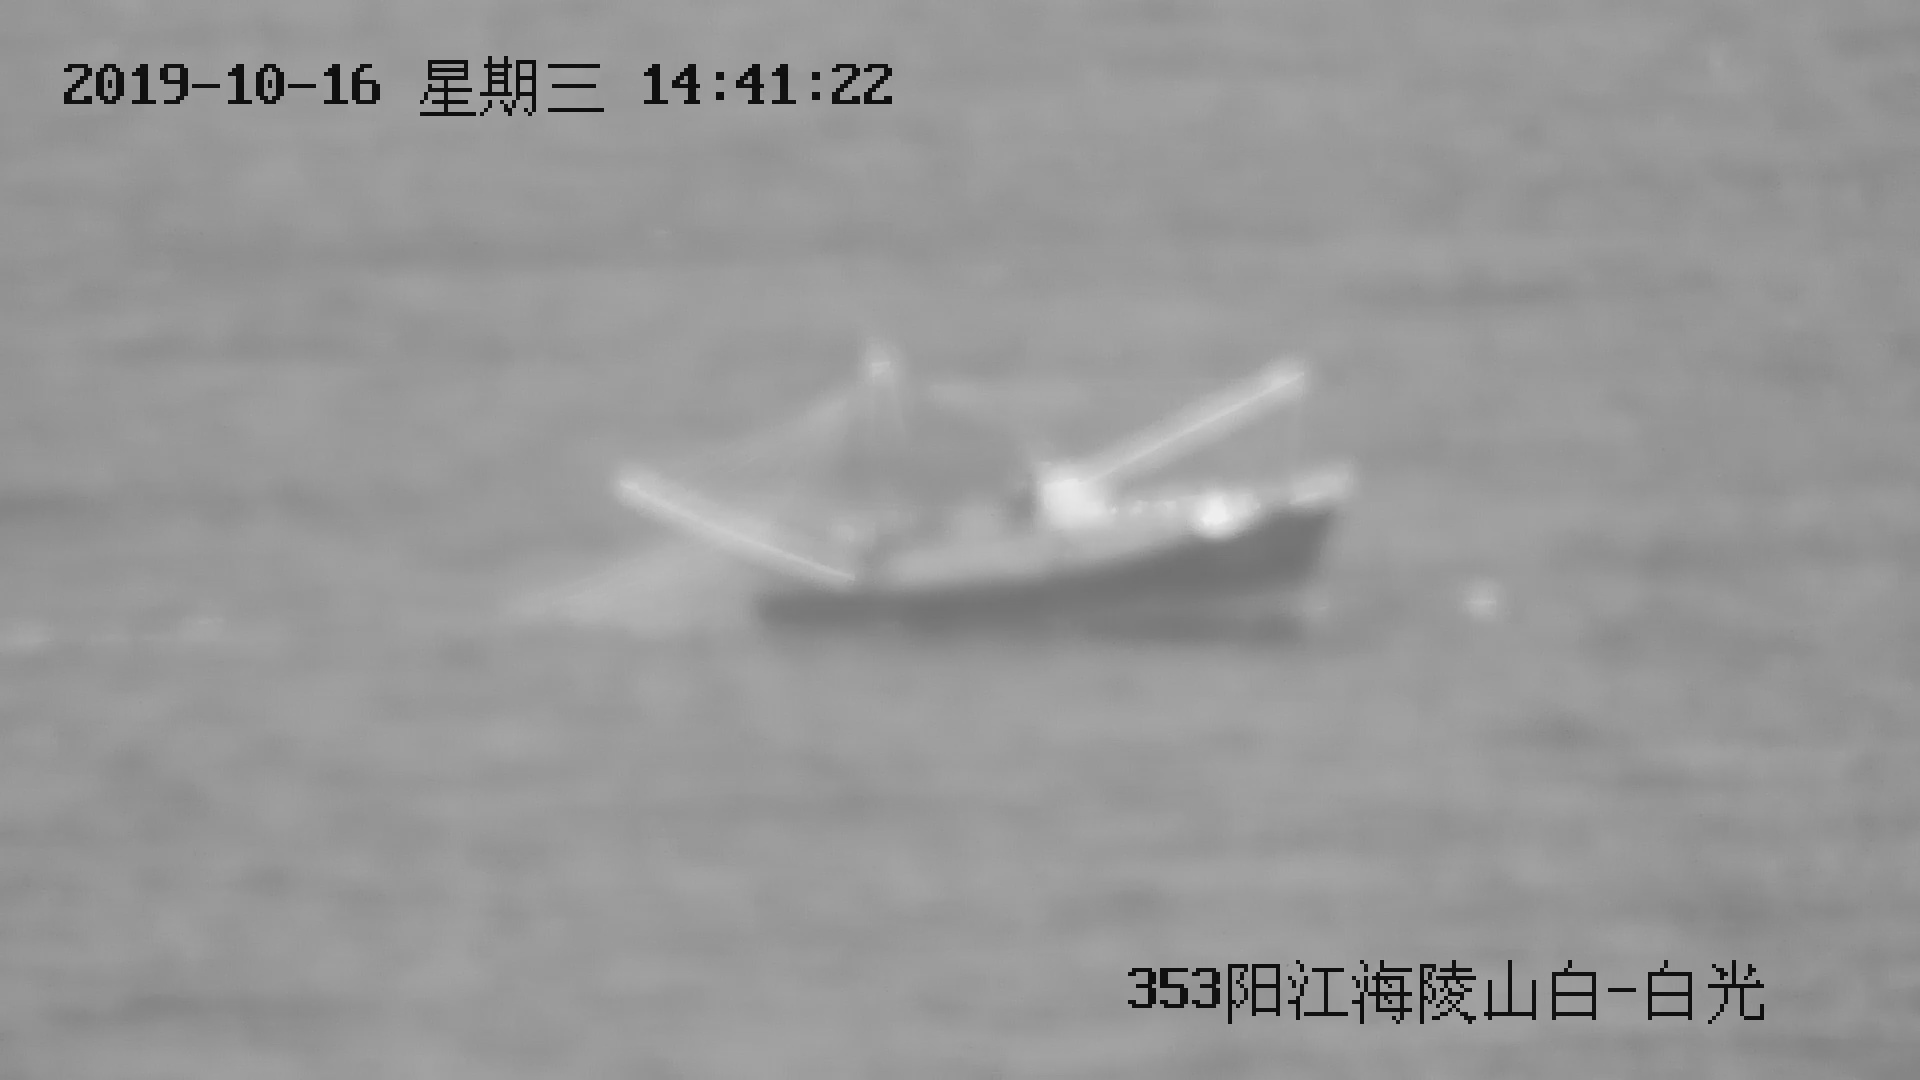ship: (603, 326, 1356, 634)
